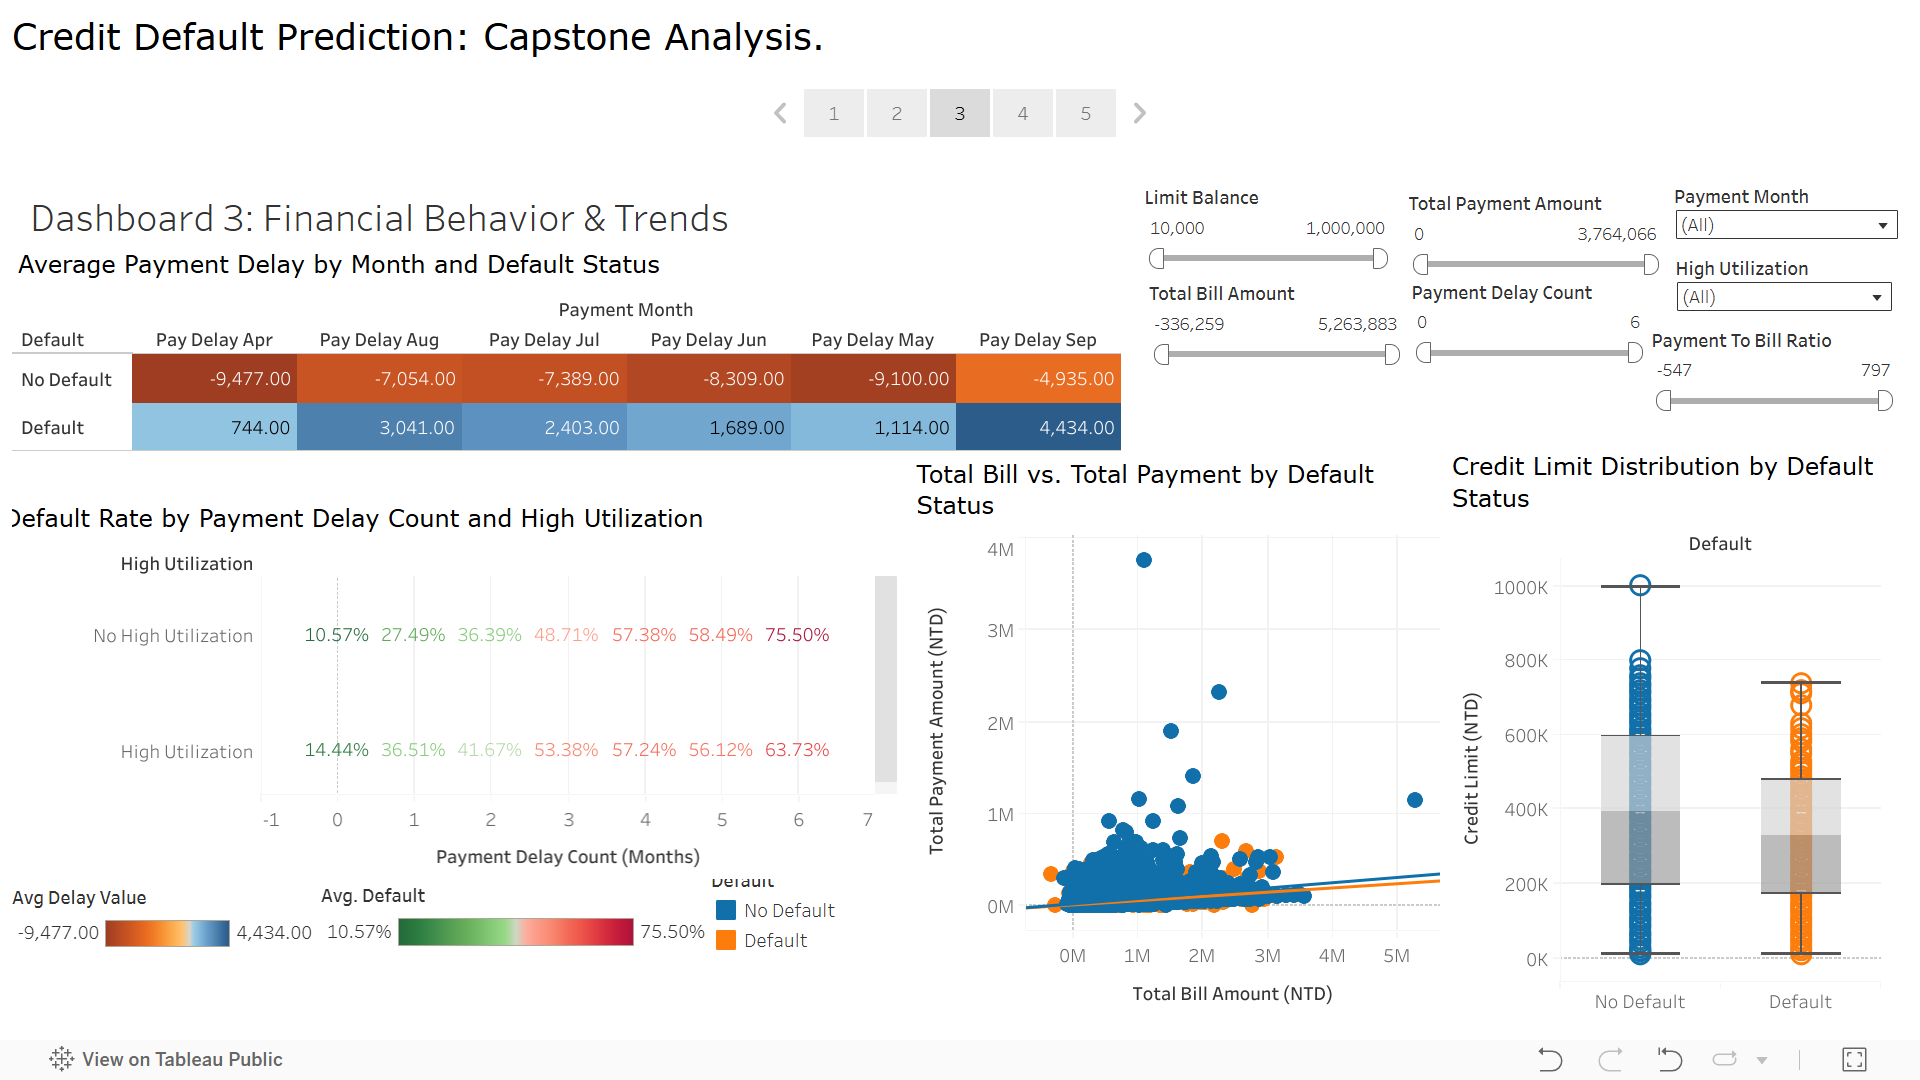

What the dashboard file says about the page in this screenshot:
{"tool":"tableau","page":{"name":"Dashboard 3: Financial Behavior & Trends","canvas":[1000,1000],"units":"permille","ordinal":1},"visuals":[{"type":"filter","title":"3.1 Avg Payment Delay Heatmap","param":"[federated.1dpyn1n11wrag61cv97z41ppz48c].[none:Pivot Field Names:nk]","box":[877,5.4,118,118]},{"type":"filter","title":"3.2 Total Bill vs Payment Scatter","param":"[federated.1dpyn1n11wrag61cv97z41ppz48c].[none:limit_bal:qk]","box":[597.5,6.7,129.3,115.3]},{"type":"title","box":[5,10.7,989.9,65.7]},{"type":"filter","title":"3.2 Total Bill vs Payment Scatter","param":"[federated.1dpyn1n11wrag61cv97z41ppz48c].[none:total_payment_amount:qk]","box":[736.3,13.4,133.8,118]},{"type":"worksheet","title":"3.1 Avg Payment Delay Heatmap","mark":"Square","rows":["default"],"cols":["Pivot Field Names"],"box":[0,72.4,585.4,250.7]},{"type":"filter","title":"3.2 Total Bill vs Payment Scatter","param":"[federated.1dpyn1n11wrag61cv97z41ppz48c].[none:high_utilization:ok]","box":[877.6,89.8,114.2,122]},{"type":"filter","title":"3.2 Total Bill vs Payment Scatter","param":"[federated.1dpyn1n11wrag61cv97z41ppz48c].[none:payment_delay_count:qk]","box":[738.2,118,123,112.6]},{"type":"filter","title":"3.2 Total Bill vs Payment Scatter","param":"[federated.1dpyn1n11wrag61cv97z41ppz48c].[none:total_bill_amount:qk]","box":[599.4,120.6,134.4,134.1]},{"type":"filter","title":"3.2 Total Bill vs Payment Scatter","param":"[federated.1dpyn1n11wrag61cv97z41ppz48c].[none:payment_to_bill_ratio:qk]","box":[864.4,174.3,129.3,126]},{"type":"worksheet","title":"3.3 Credit Limit Distribution by Default","mark":"Shape","rows":["limit_bal"],"cols":["default"],"box":[756.2,311,229.4,672.9]},{"type":"worksheet","title":"3.2 Total Bill vs Payment Scatter","mark":"Circle","rows":["total_payment_amount"],"cols":["total_bill_amount"],"box":[473.8,319,279.3,667.6]},{"type":"legend","title":"3.2 Total Bill vs Payment Scatter","param":"[federated.1dpyn1n11wrag61cv97z41ppz48c].[none:default:ok]","box":[368.4,811,101,127.4]},{"type":"legend","title":"3.4 Default Rate by Delay & Utilization","param":"[federated.1dpyn1n11wrag61cv97z41ppz48c].[avg:default:qk]","box":[162.8,829.8,206.3,92.5]},{"type":"legend","title":"3.1 Avg Payment Delay Heatmap","param":"[federated.1dpyn1n11wrag61cv97z41ppz48c].[sum:Pivot Field Values:qk]","box":[0,831.1,162.2,119.3]}]}

Visuals, with their boxes on the dashboard's canvas, which has no fixed pixel size, in thousandths of its width and height (x1, y1, x2, y2). These are canvas units, not pixel positions in the 1920x1080 screenshot, which may show the page scaled, cropped or inside an application window:
"3.1 Avg Payment Delay Heatmap" filter: {"left": 877, "top": 5, "right": 995, "bottom": 123}
"3.2 Total Bill vs Payment Scatter" filter: {"left": 598, "top": 7, "right": 727, "bottom": 122}
title: {"left": 5, "top": 11, "right": 995, "bottom": 76}
"3.2 Total Bill vs Payment Scatter" filter: {"left": 736, "top": 13, "right": 870, "bottom": 131}
"3.1 Avg Payment Delay Heatmap" worksheet (Square marks): {"left": 0, "top": 72, "right": 585, "bottom": 323}
"3.2 Total Bill vs Payment Scatter" filter: {"left": 878, "top": 90, "right": 992, "bottom": 212}
"3.2 Total Bill vs Payment Scatter" filter: {"left": 738, "top": 118, "right": 861, "bottom": 231}
"3.2 Total Bill vs Payment Scatter" filter: {"left": 599, "top": 121, "right": 734, "bottom": 255}
"3.2 Total Bill vs Payment Scatter" filter: {"left": 864, "top": 174, "right": 994, "bottom": 300}
"3.3 Credit Limit Distribution by Default" worksheet (Shape marks): {"left": 756, "top": 311, "right": 986, "bottom": 984}
"3.2 Total Bill vs Payment Scatter" worksheet (Circle marks): {"left": 474, "top": 319, "right": 753, "bottom": 987}
"3.2 Total Bill vs Payment Scatter" legend: {"left": 368, "top": 811, "right": 469, "bottom": 938}
"3.4 Default Rate by Delay & Utilization" legend: {"left": 163, "top": 830, "right": 369, "bottom": 922}
"3.1 Avg Payment Delay Heatmap" legend: {"left": 0, "top": 831, "right": 162, "bottom": 950}
